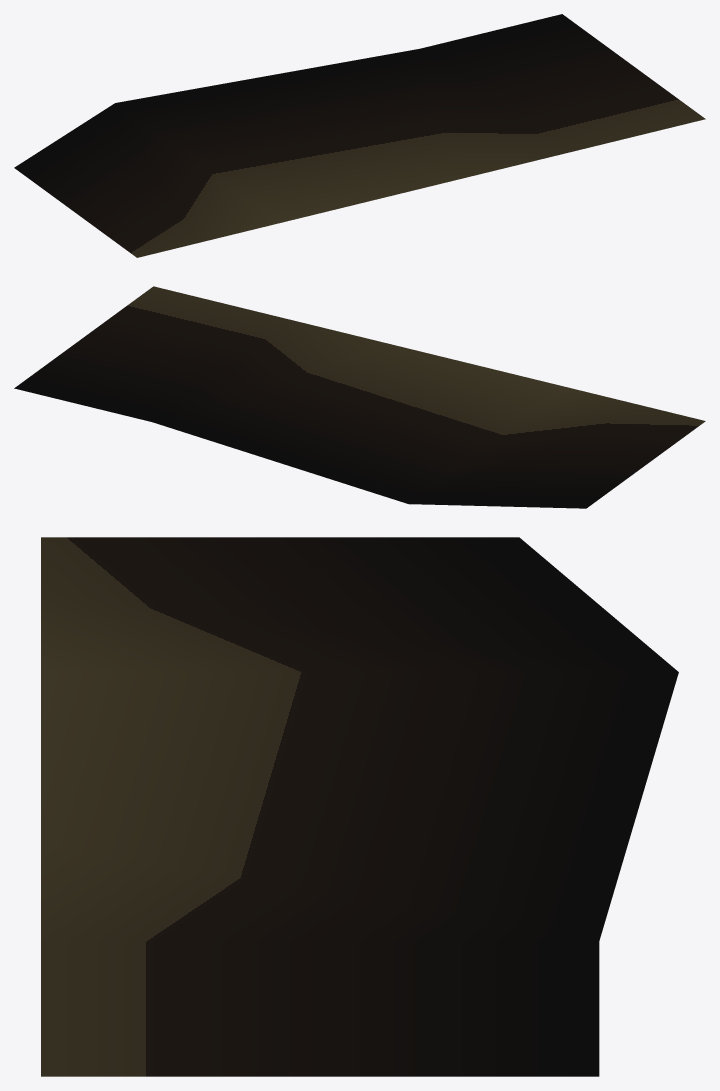
3 renders of one model, top to bottom at view 1: azimuth 30°, elevation 25°; view 2: azimuth 150°, elevation 25°; view 3: azimuth 270°, elevation 25°, orthographic. The views are drawn at different scales.
Bounding box in the file's own units: 1 × 0 × 0.5.
Materials: 1 (1 with a texture image).
